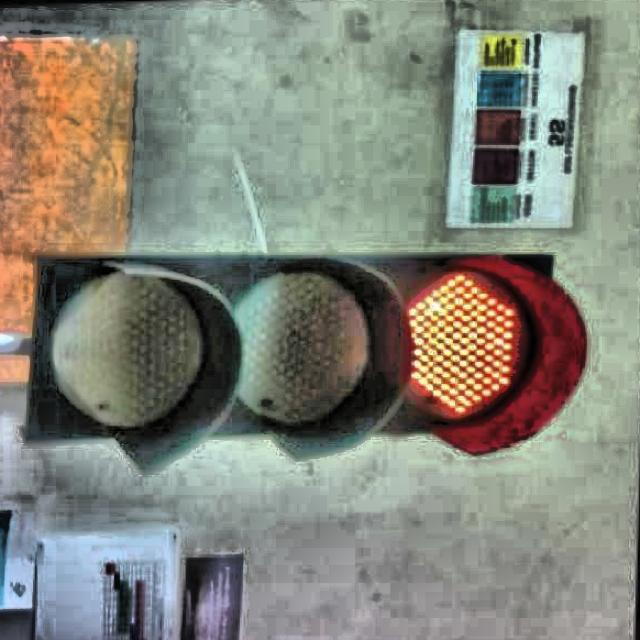red: (20, 254, 551, 452)
